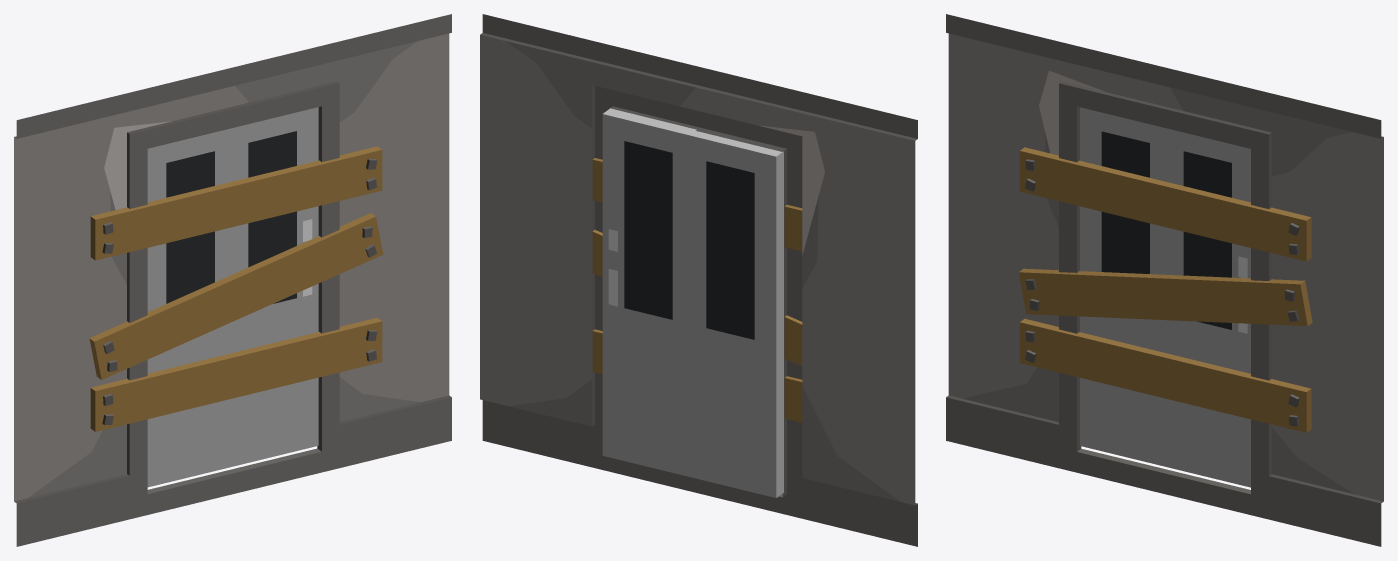
Rendered from AI_Env_Wall_Grey_BlockedDoor_01.fbx.
3 renders of one model, left to right at view 1: azimuth 30°, elevation 25°; view 2: azimuth 150°, elevation 25°; view 3: azimuth 330°, elevation 25°, orthographic.
Parts seen in each view (by area): view 1: AI_Env_Wall_Grey_BlockedDoor_01; view 2: AI_Env_Wall_Grey_BlockedDoor_01; view 3: AI_Env_Wall_Grey_BlockedDoor_01.
Boxes of the visible parts, x1,y1,x2,y2 form: AI_Env_Wall_Grey_BlockedDoor_01: [14, 14, 451, 546]; AI_Env_Wall_Grey_BlockedDoor_01: [480, 14, 917, 546]; AI_Env_Wall_Grey_BlockedDoor_01: [946, 14, 1383, 546].
Bounding box in the file's own units: 5 × 4.69 × 0.3005.
